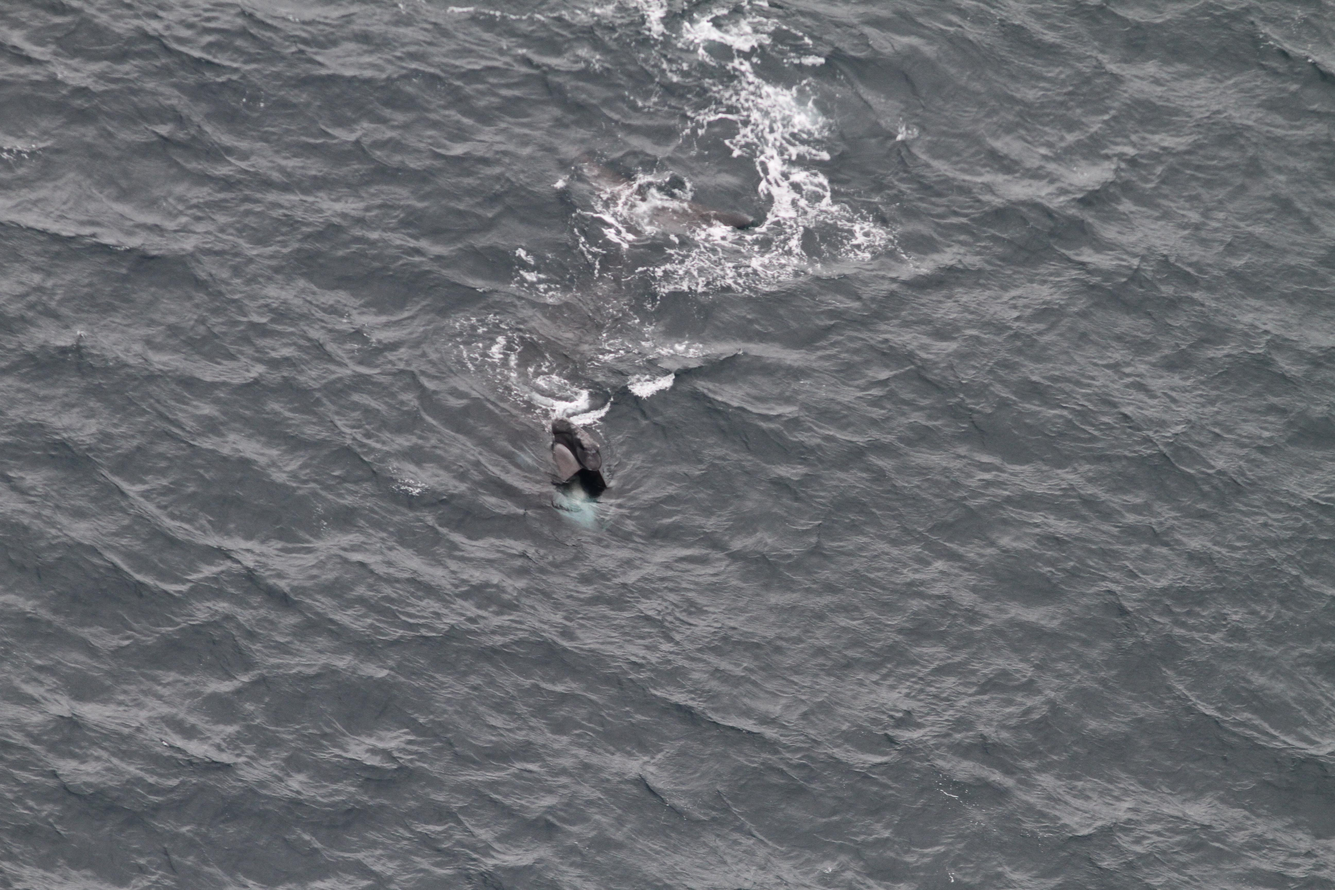whale: (493, 150, 760, 534)
